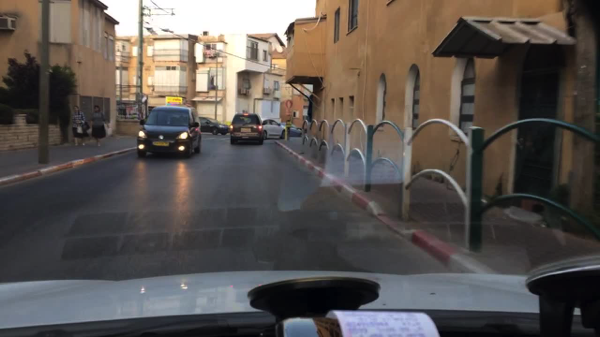car: (137, 104, 201, 158), (230, 110, 265, 144), (198, 115, 228, 135), (262, 118, 285, 140), (283, 123, 303, 138)
person: (90, 105, 109, 147), (70, 105, 88, 147)
traffic sign: (285, 99, 291, 110), (286, 115, 291, 127)
